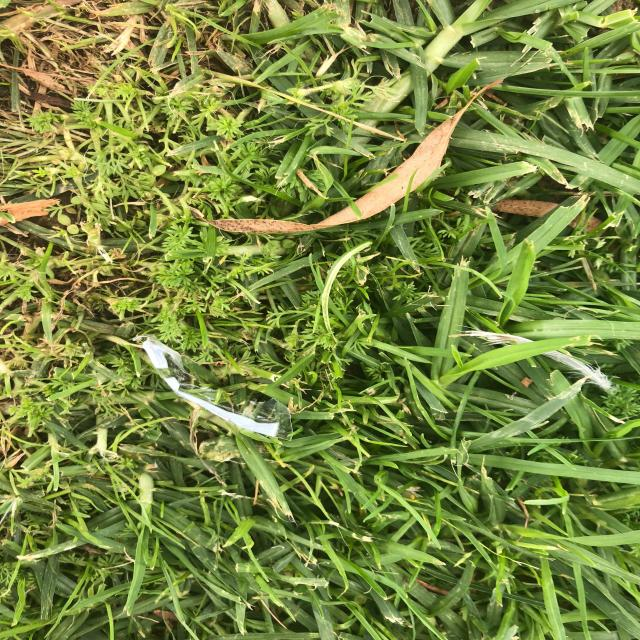Plastic film: (133, 333, 293, 441)
